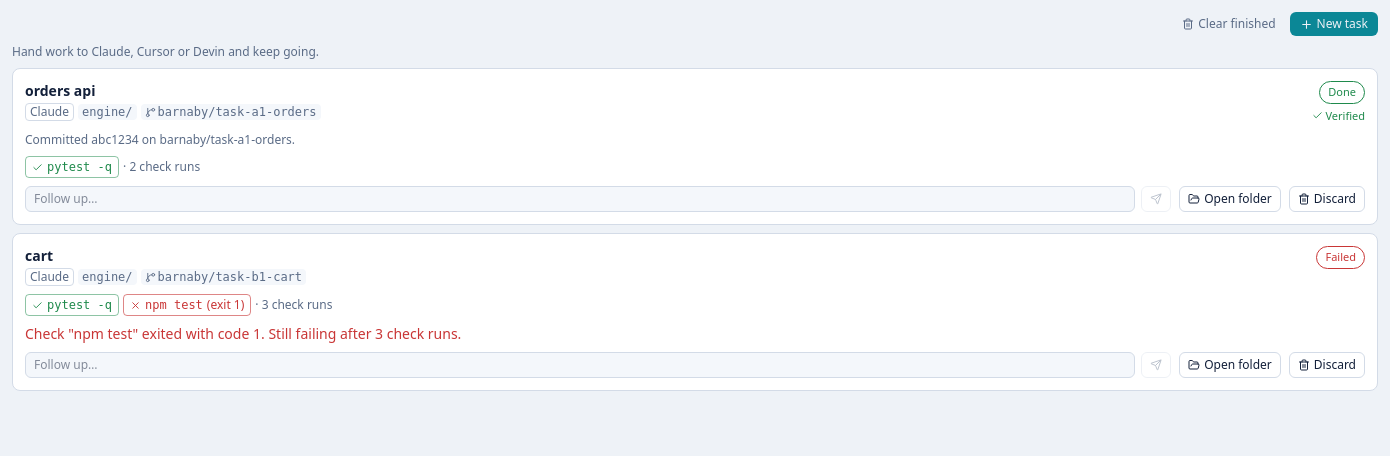
Scenario: task cards: checks and worktrees › shows the branch, which checks passed or failed, and each check's output
Expected: the text "barnaby/task-a1-orders" is shown, [141,104,321,120]
Expected: the text "Verified" is shown, [1312,108,1365,124]
Click the button "npm test (exit 1)".
click(187, 305)  # box [123,294,251,316]
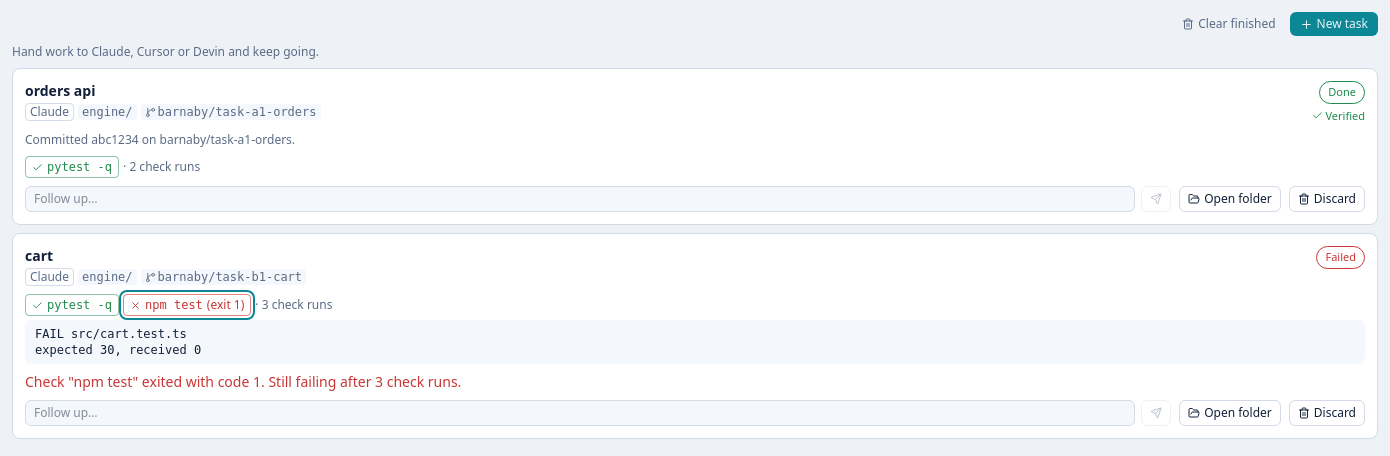
Expected: the text "FAIL src/cart.test.ts expected 30, received 0" is shown, [25,320,1365,364]
